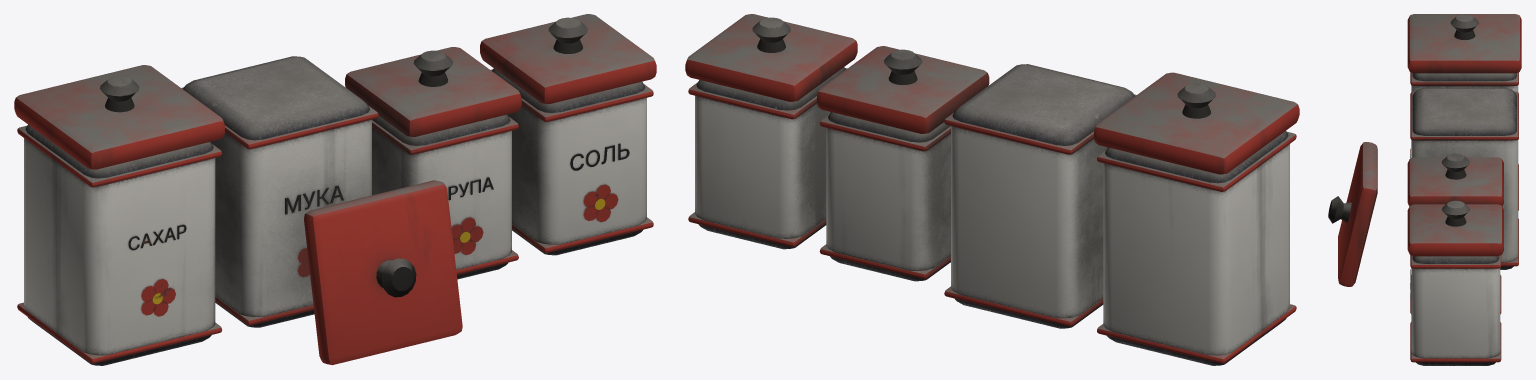
Rendered from SM_Canisters_Set.fbx.
3 views of the same model, side by side, from view 1: azimuth 30°, elevation 25°; view 2: azimuth 150°, elevation 25°; view 3: azimuth 270°, elevation 25° (orthographic). The views are drawn at different scales.
Parts seen in each view (by area): view 1: SM_Canisters_Set; view 2: SM_Canisters_Set; view 3: SM_Canisters_Set.
Boxes of the visible parts, x1,y1,x2,y2 form: SM_Canisters_Set: (14,14,656,365); SM_Canisters_Set: (685,14,1299,365); SM_Canisters_Set: (1328,14,1521,365).
Size of the model in its own units: 0.528 by 0.2261 by 0.2174.
Materials: 1 (1 with a texture image).
